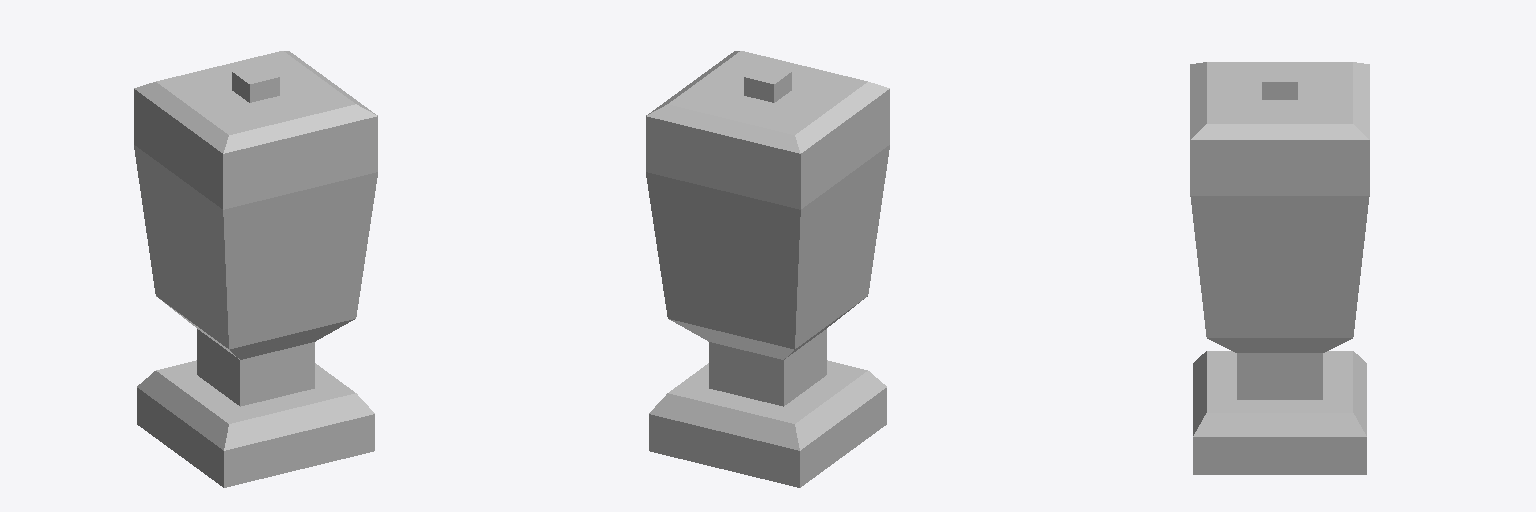
The model's file is urn.obj.
3 views of the same model, side by side, from view 1: azimuth 30°, elevation 25°; view 2: azimuth 150°, elevation 25°; view 3: azimuth 270°, elevation 25° (orthographic).
Parts seen in each view (by area): view 1: urn, urnLid; view 2: urn, urnLid; view 3: urn, urnLid.
Boxes of the visible parts, <box> form: urn: <box>134,108,377,487</box>; urnLid: <box>134,51,377,172</box>; urn: <box>646,108,889,487</box>; urnLid: <box>646,51,889,172</box>; urn: <box>1190,159,1369,474</box>; urnLid: <box>1190,62,1369,158</box>.
Size of the model in its own units: 0.1742 by 0.39 by 0.1742.